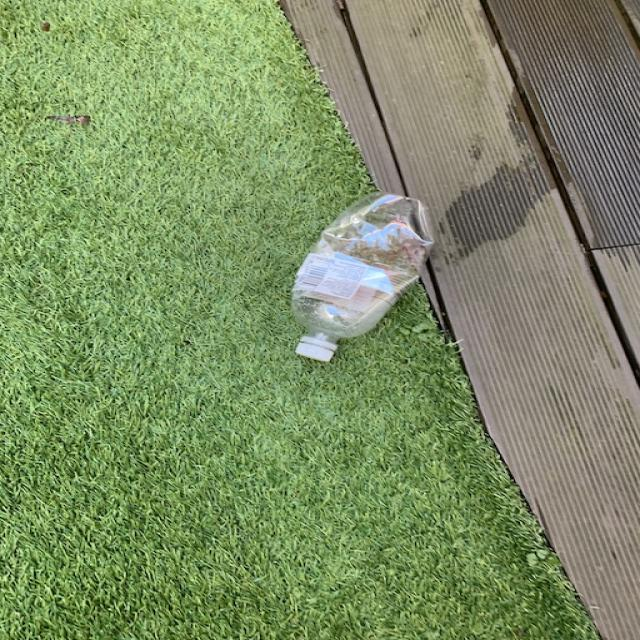Plastic: (292, 192, 435, 362)
